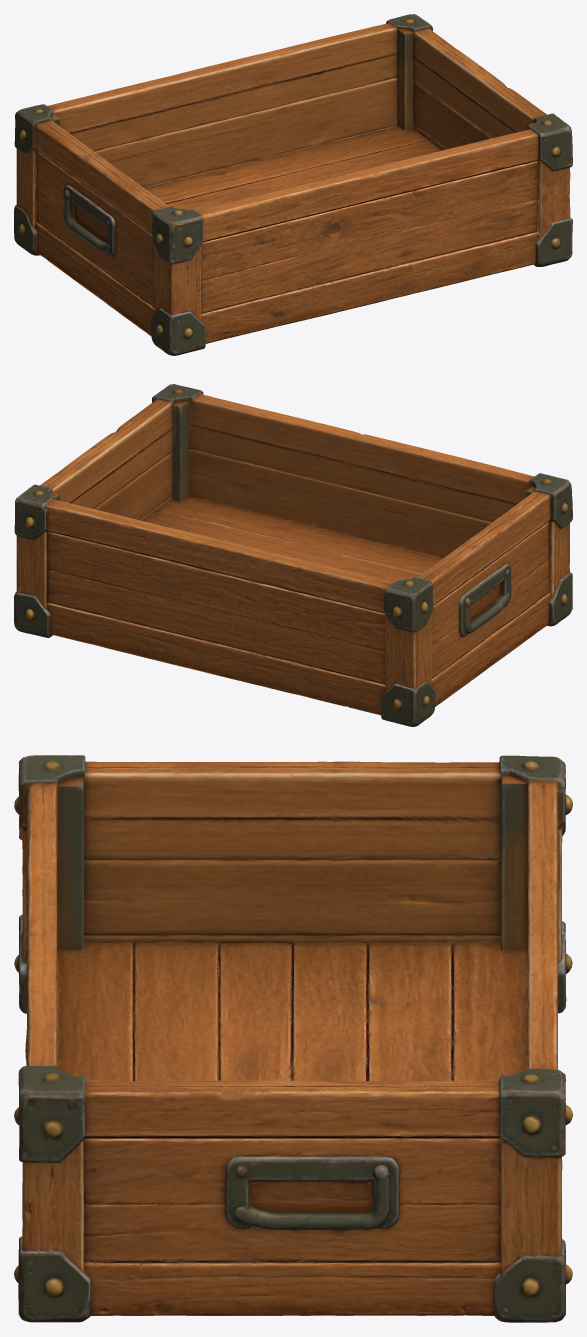
The model's file is original.glb.
3 views of the same model, one above another, from view 1: azimuth 30°, elevation 25°; view 2: azimuth 150°, elevation 25°; view 3: azimuth 270°, elevation 25° (orthographic). The views are drawn at different scales.
Parts seen in each view (by area): view 1: tripo_node_64b47d74-2716-4e72-b73a-2101eb9180f5; view 2: tripo_node_64b47d74-2716-4e72-b73a-2101eb9180f5; view 3: tripo_node_64b47d74-2716-4e72-b73a-2101eb9180f5.
Boxes of the visible parts, bbox=[...] form: tripo_node_64b47d74-2716-4e72-b73a-2101eb9180f5: bbox=[14, 14, 572, 355]; tripo_node_64b47d74-2716-4e72-b73a-2101eb9180f5: bbox=[14, 384, 572, 726]; tripo_node_64b47d74-2716-4e72-b73a-2101eb9180f5: bbox=[14, 755, 572, 1322].
Size of the model in its own units: 0.9805 by 0.3202 by 0.6693.
1 material, 1 textured.
